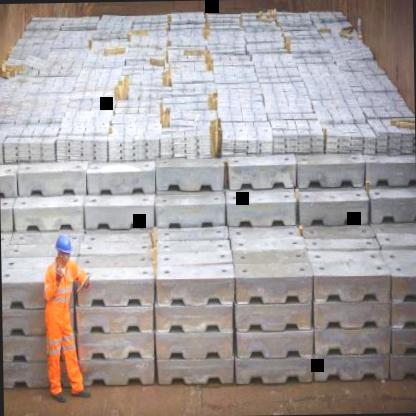helmet: (52, 232, 74, 268)
